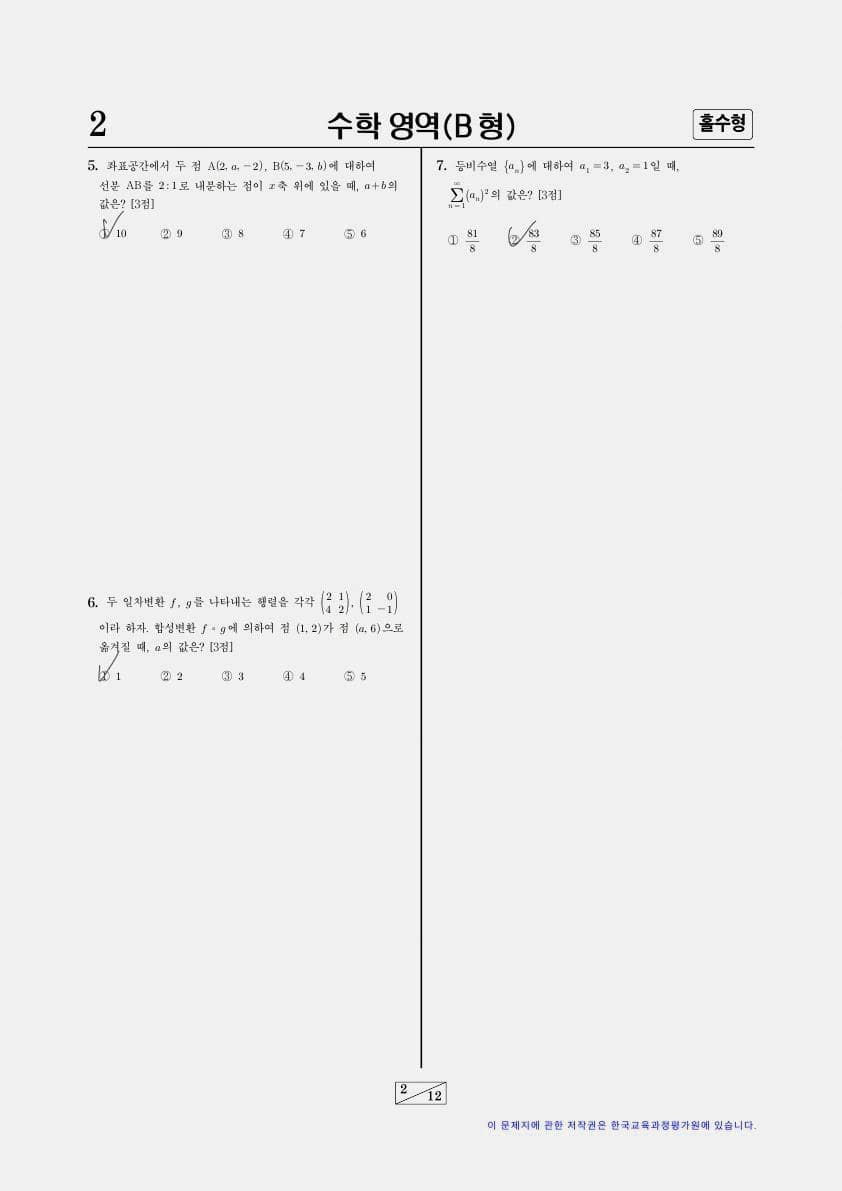question: (66, 581, 411, 709), (76, 149, 410, 267), (419, 151, 740, 273)
